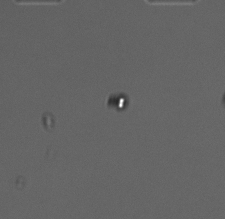Dead Cell: (41, 113, 58, 132)
Living Cell: (115, 92, 130, 114)
